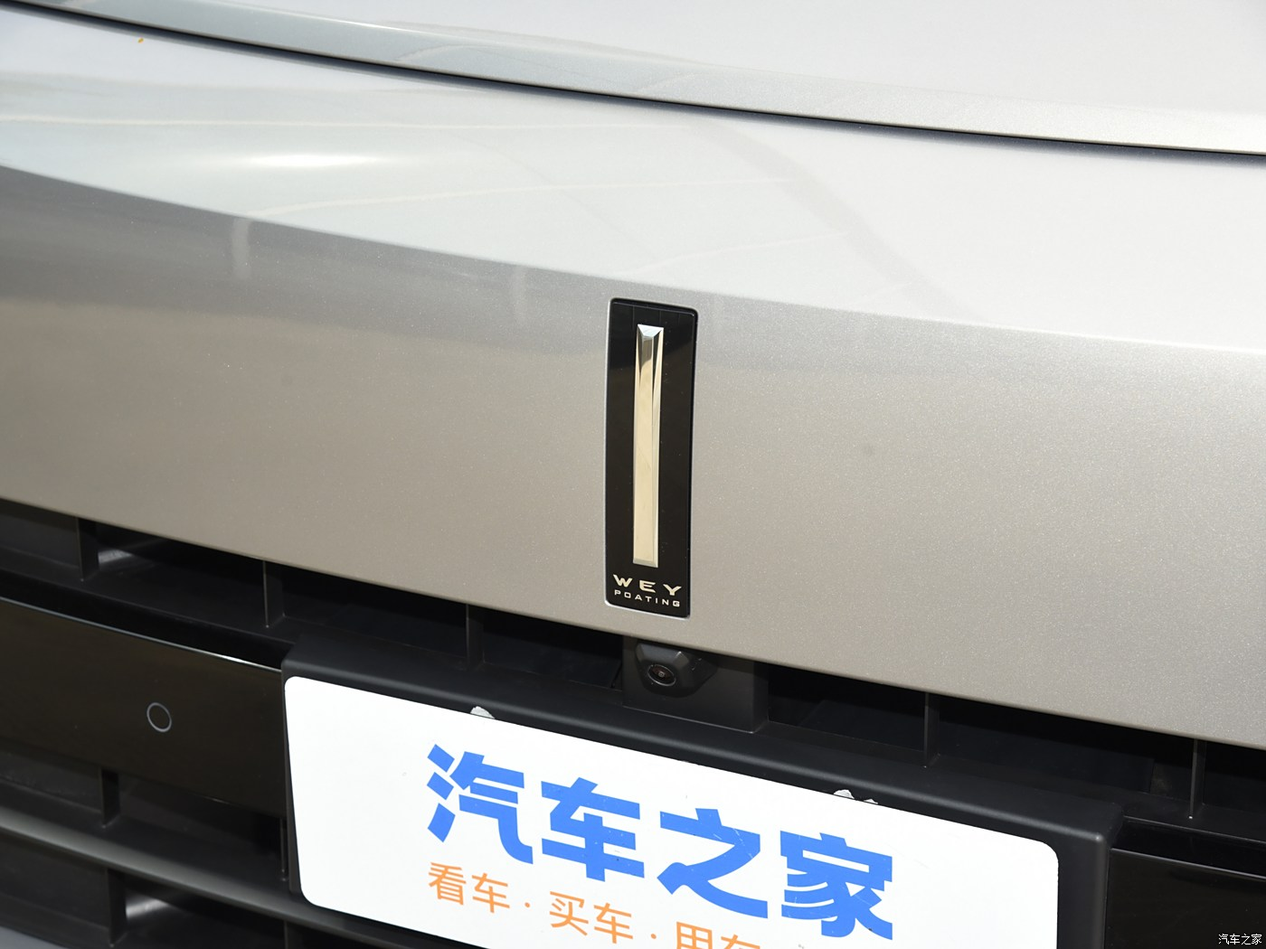WEY: (605, 299, 697, 618)
